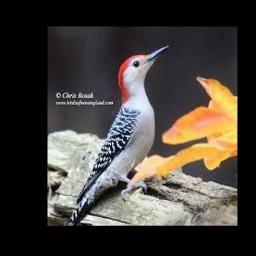Woodpecker: (65, 44, 169, 226)
